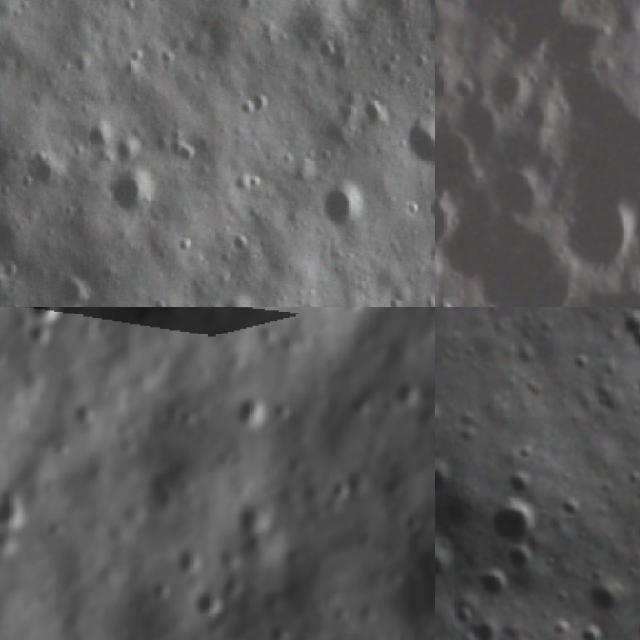crater: (552, 187, 640, 276), (464, 0, 584, 48), (536, 17, 623, 74), (95, 158, 166, 221), (491, 160, 556, 227), (481, 496, 549, 560), (306, 176, 373, 237), (435, 124, 491, 190), (393, 548, 435, 635), (397, 98, 435, 176), (477, 67, 531, 114), (435, 190, 472, 256), (27, 148, 72, 201), (472, 560, 520, 609), (585, 571, 632, 619), (501, 462, 544, 505), (194, 580, 233, 622), (435, 451, 466, 503), (0, 483, 31, 531), (502, 540, 539, 580), (435, 47, 458, 108), (172, 539, 208, 577), (328, 470, 362, 510), (239, 390, 274, 428), (615, 307, 640, 359), (392, 376, 427, 412), (448, 596, 482, 633), (556, 489, 590, 524), (572, 617, 614, 640), (467, 617, 507, 640), (150, 570, 177, 602), (26, 307, 69, 325)
